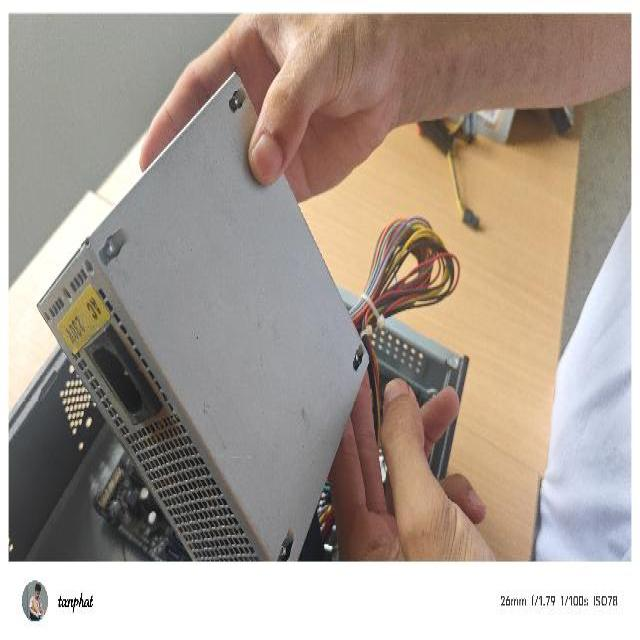PSU: (36, 65, 372, 561)
